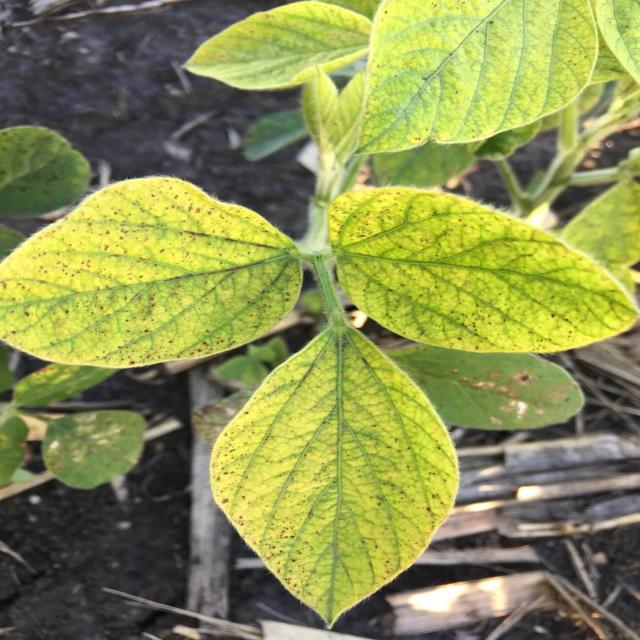Chlorosis: (7, 2, 639, 640)
